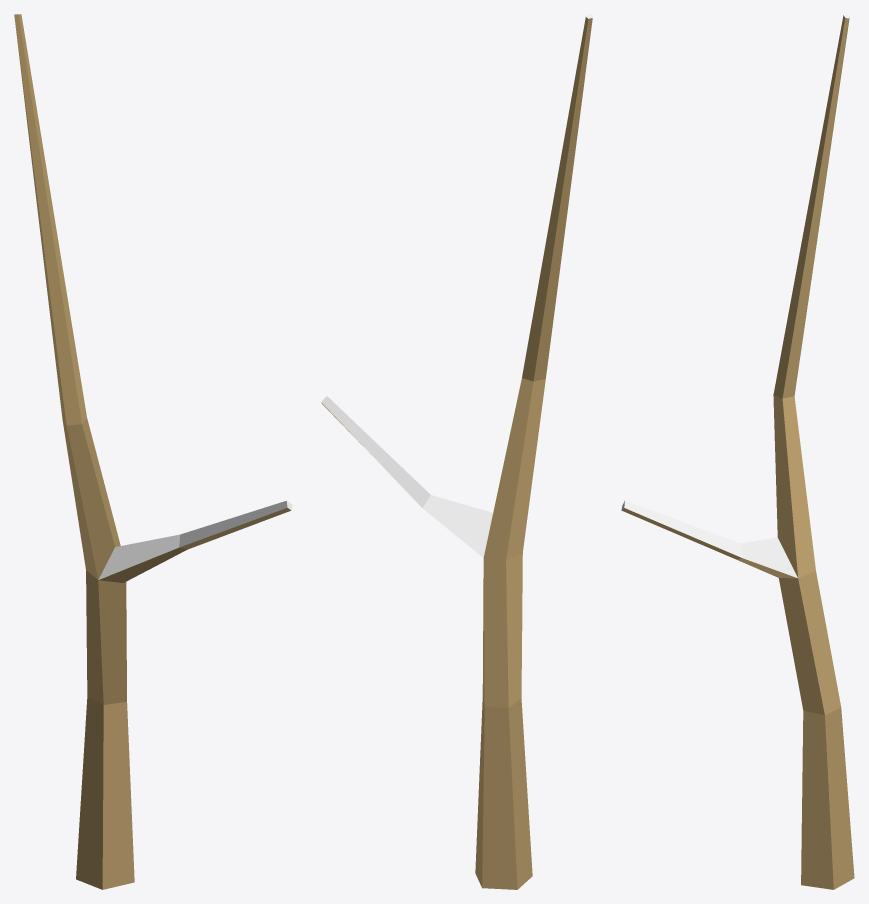
File: Simple_Tree_NoLeaves_s_Snow_02_LOD.fbx
3 renders of one model, left to right at view 1: azimuth 30°, elevation 25°; view 2: azimuth 210°, elevation 25°; view 3: azimuth 270°, elevation 25°, orthographic. The views are drawn at different scales.
Visible parts, largest first — view 1: Simple_Tree_NoLeaves_s_Snow_02_LOD0; view 2: Simple_Tree_NoLeaves_s_Snow_02_LOD0; view 3: Simple_Tree_NoLeaves_s_Snow_02_LOD0.
Part boxes in pixels (left/top/right/bottom): Simple_Tree_NoLeaves_s_Snow_02_LOD0: left=14, top=14, right=292, bottom=889; Simple_Tree_NoLeaves_s_Snow_02_LOD0: left=321, top=14, right=592, bottom=889; Simple_Tree_NoLeaves_s_Snow_02_LOD0: left=621, top=14, right=854, bottom=889.
Size of what is drawn, in the model's own units: 59.71 by 309 by 79.06.
